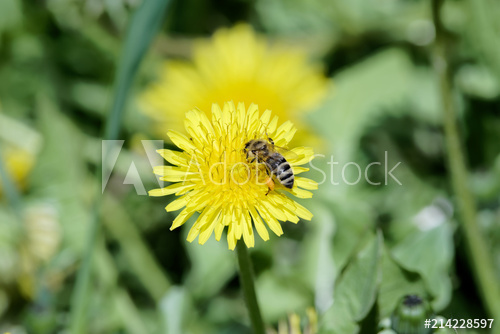dandelion: (180, 114, 311, 245)
